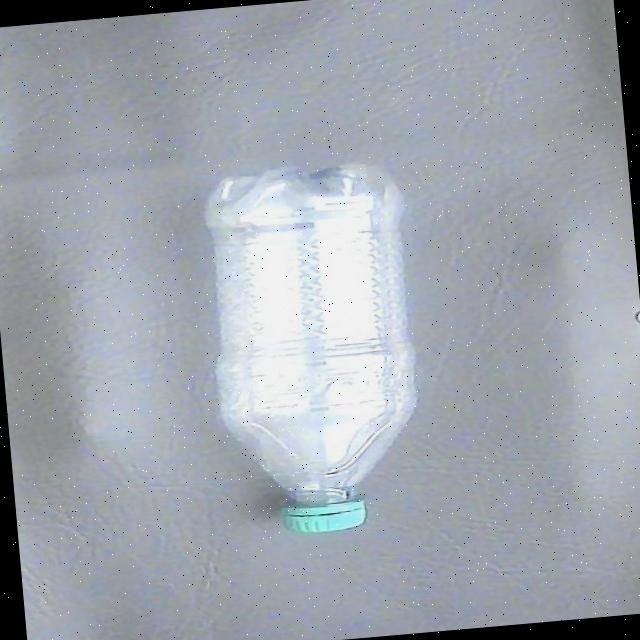bottle: (190, 154, 440, 543)
cap: (270, 496, 376, 534)
